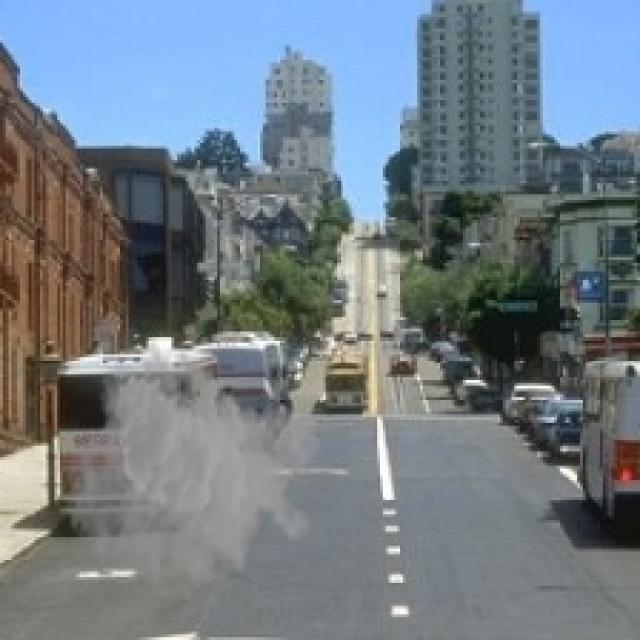smoke: (63, 337, 323, 614)
